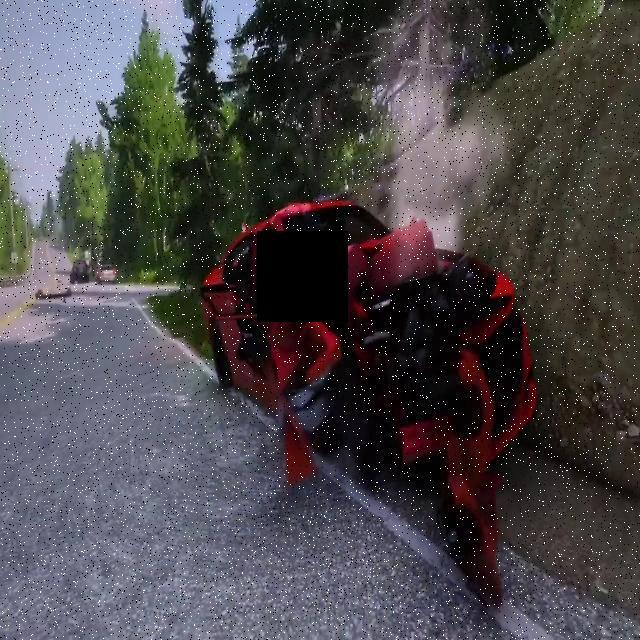vehicle: (212, 120, 545, 568)
